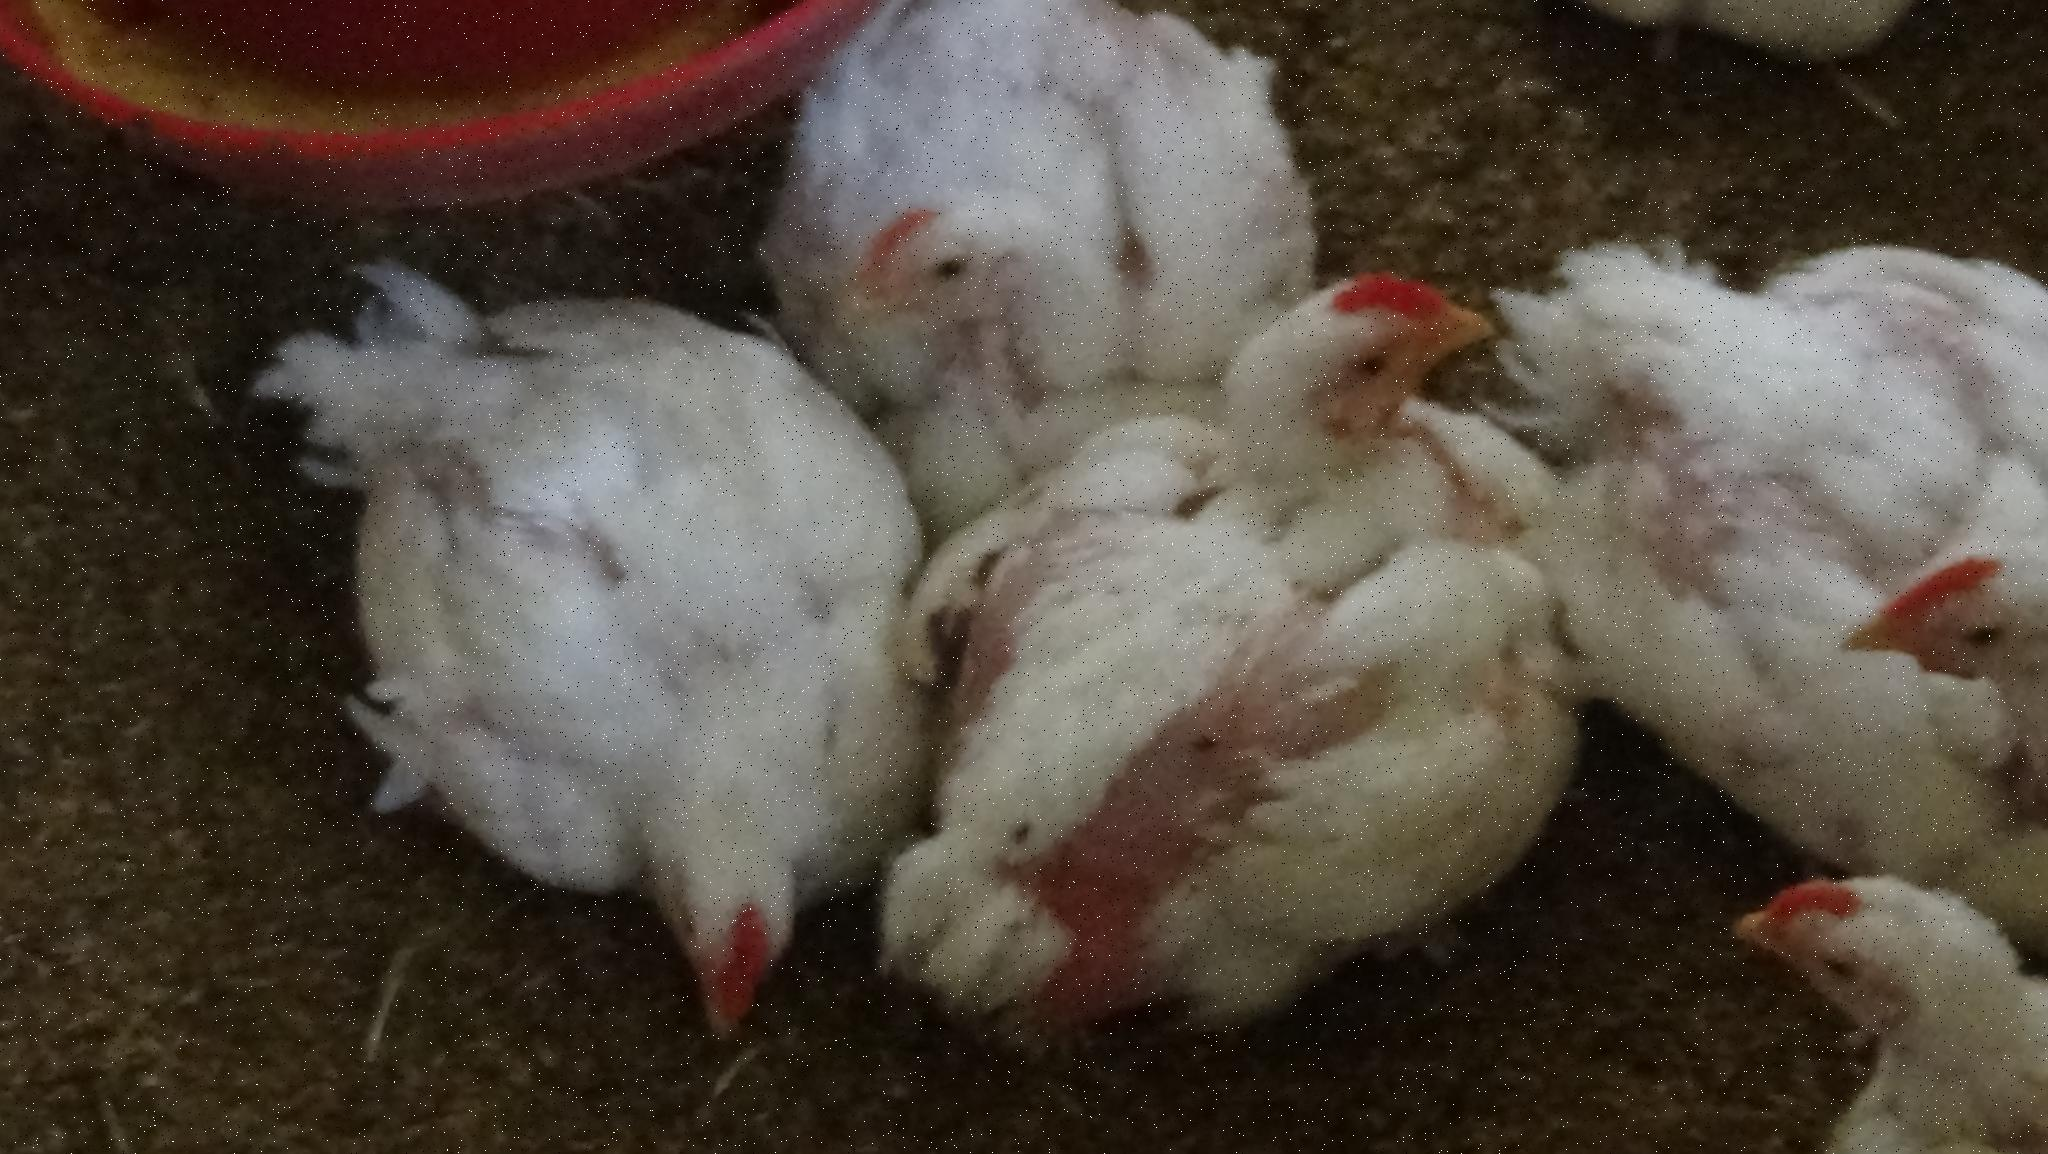Pollos: (276, 165, 931, 1070), (933, 227, 1605, 1009), (1554, 173, 2048, 840), (747, 1, 1348, 439), (1739, 761, 2048, 1154)
